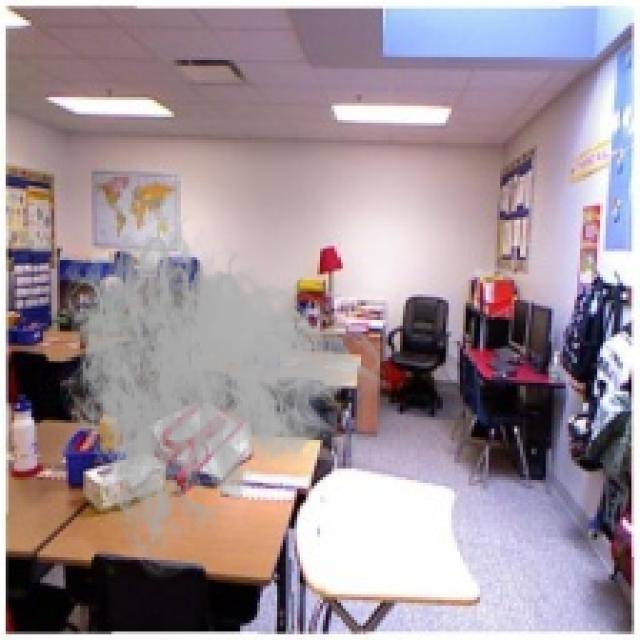Smoke: (42, 200, 392, 583)
